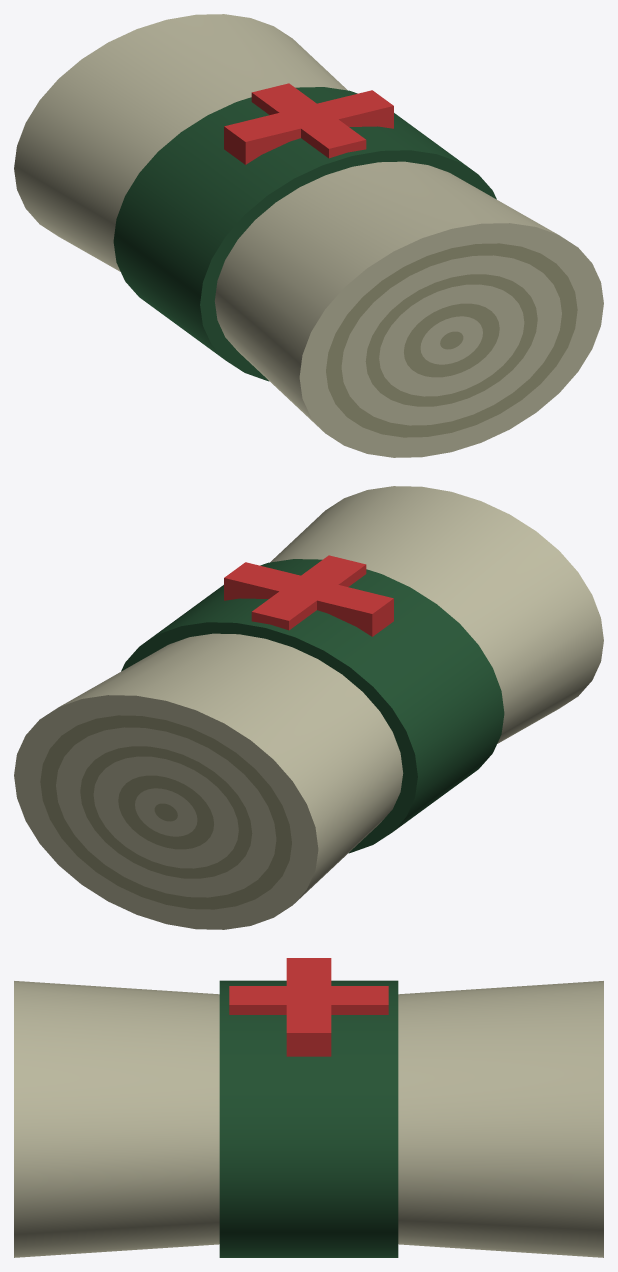
The model's file is aptechka_min.fbx.
3 views of the same model, one above another, from view 1: azimuth 30°, elevation 25°; view 2: azimuth 150°, elevation 25°; view 3: azimuth 270°, elevation 25° (orthographic). The views are drawn at different scales.
Parts seen in each view (by area): view 1: aptechka_min; view 2: aptechka_min; view 3: aptechka_min.
Boxes of the visible parts, box(x1,y1,x2,y2) form: aptechka_min: box(14, 14, 603, 457); aptechka_min: box(14, 486, 603, 929); aptechka_min: box(14, 958, 603, 1257).
Size of the model in its own units: 0.1992 by 0.1447 by 0.3236.
